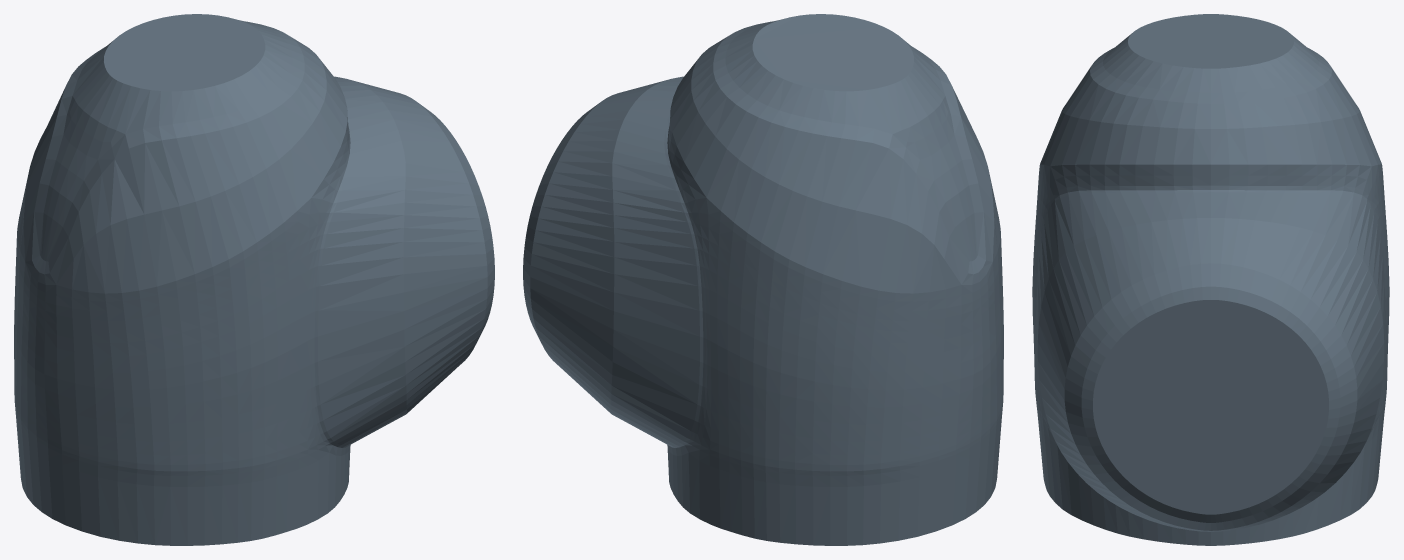
The picture shows the model from 3 angles, left to right: view 1: azimuth 30°, elevation 25°; view 2: azimuth 150°, elevation 25°; view 3: azimuth 270°, elevation 25°; orthographic projection.
Visible parts, largest first — view 1: MF1509_2_0; view 2: MF1509_2_0; view 3: MF1509_2_0.
Part boxes in pixels (x1,y1,x2,y2): MF1509_2_0: (14, 14, 494, 545); MF1509_2_0: (523, 14, 1003, 545); MF1509_2_0: (1032, 14, 1389, 545).
Size of the model in its own units: 214 by 161 by 220.
